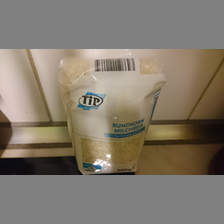rice: (58, 56, 167, 175)
